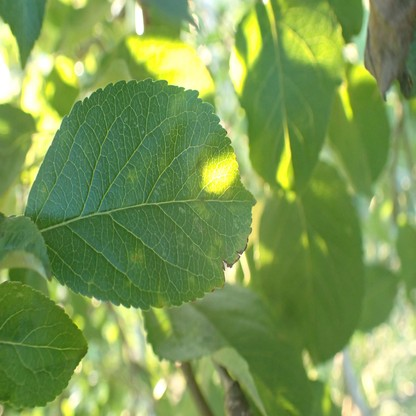scab: (187, 151, 210, 191), (191, 201, 210, 219), (131, 245, 144, 264), (206, 245, 216, 268), (157, 293, 169, 310), (127, 169, 139, 185), (214, 234, 224, 246), (39, 185, 47, 198)
